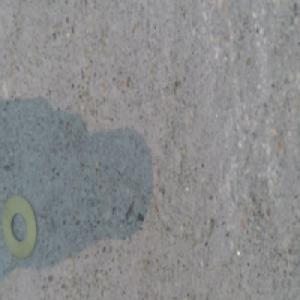Washer: (5, 193, 38, 256)
